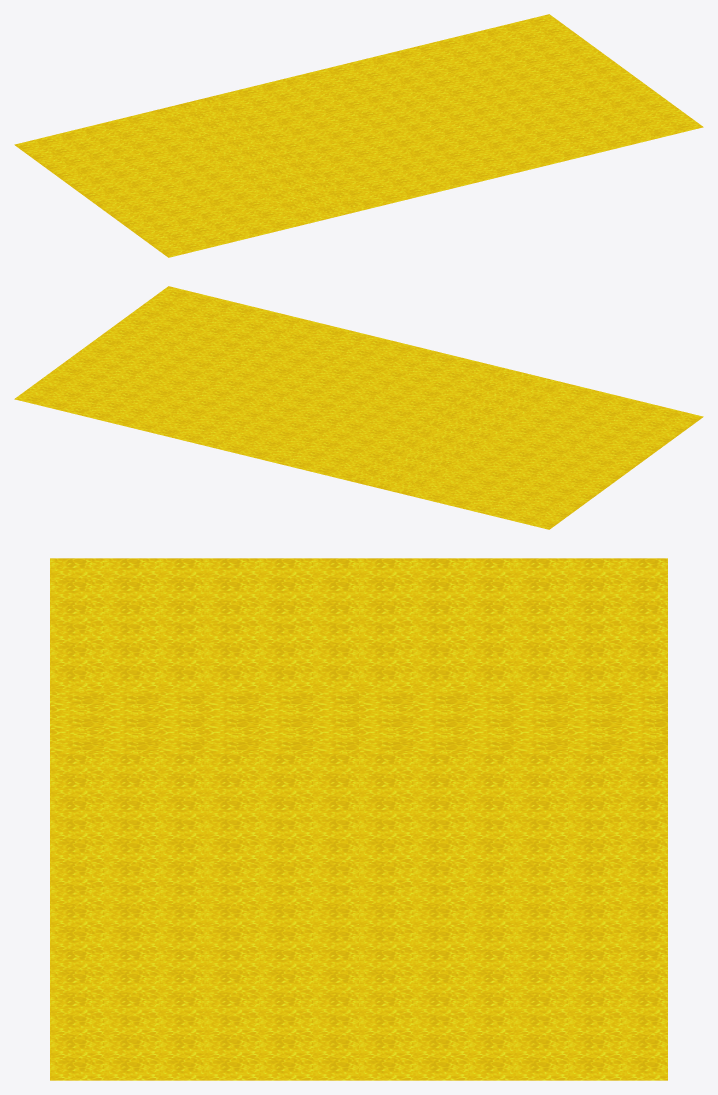
File: Lava Floor 1.fbx
3 views of the same model, one above another, from view 1: azimuth 30°, elevation 25°; view 2: azimuth 150°, elevation 25°; view 3: azimuth 270°, elevation 25° (orthographic). The views are drawn at different scales.
Visible parts, largest first — view 1: Lava Floor 1; view 2: Lava Floor 1; view 3: Lava Floor 1.
Boxes of the visible parts, bbox=[...] form: Lava Floor 1: bbox=[14, 14, 703, 257]; Lava Floor 1: bbox=[14, 286, 703, 529]; Lava Floor 1: bbox=[50, 558, 667, 1080].
Bounding box in the file's own units: 100 × 200 × 0.
Materials: 1 (1 with a texture image).
